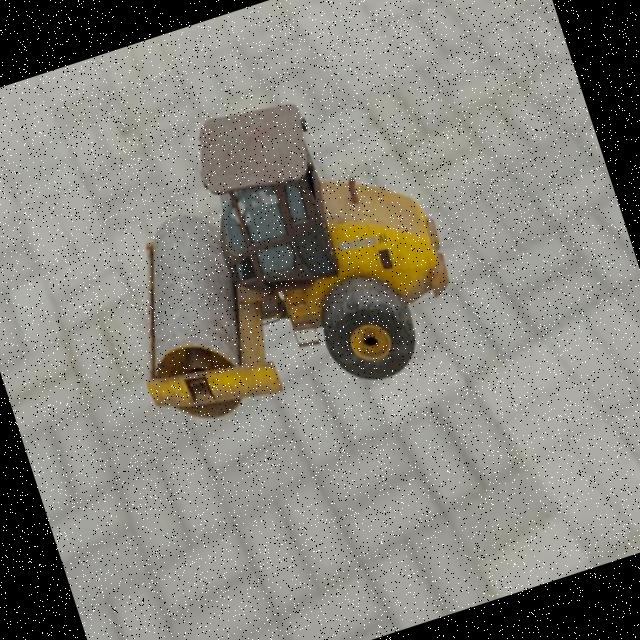Roller: (73, 61, 476, 450)
